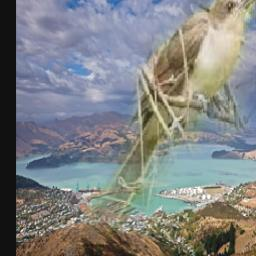Cuckoo: (78, 0, 255, 243)
